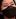with_mask: (1, 1, 16, 19)
